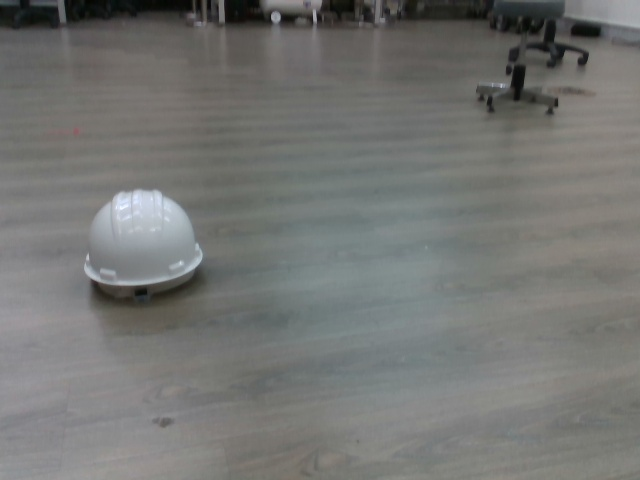helmet: (80, 183, 208, 304)
